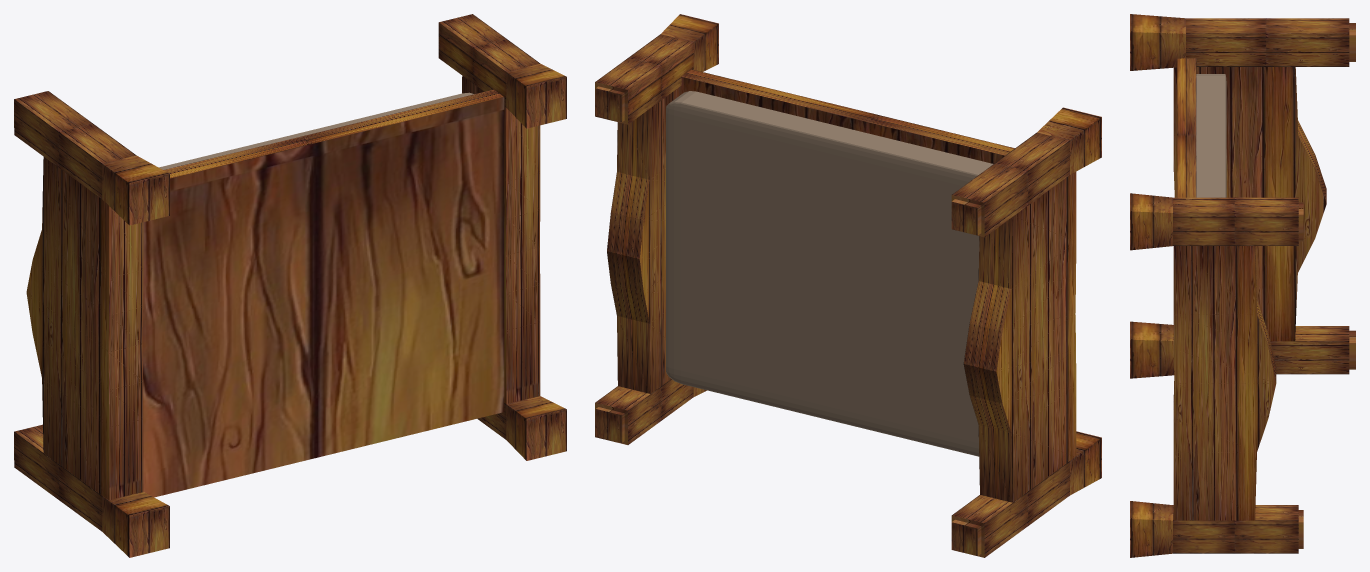
File: Bed.fbx
3 renders of one model, left to right at view 1: azimuth 30°, elevation 25°; view 2: azimuth 150°, elevation 25°; view 3: azimuth 270°, elevation 25°, orthographic. The views are drawn at different scales.
Visible parts, largest first — view 1: Board_01.002; view 2: Board_01.002; view 3: Board_01.002.
Boxes of the visible parts, bbox=[...] form: Board_01.002: bbox=[14, 14, 566, 557]; Board_01.002: bbox=[595, 14, 1101, 557]; Board_01.002: bbox=[1130, 14, 1355, 557].
Bounding box in the file's own units: 1529 × 1251 × 739.
